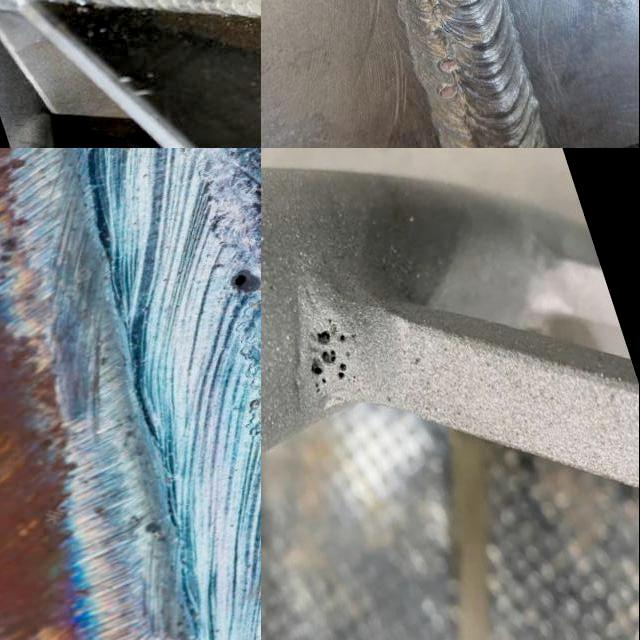defect: (226, 264, 262, 301), (309, 360, 330, 399), (438, 56, 461, 75), (438, 83, 461, 101), (317, 326, 335, 347), (322, 347, 338, 368), (338, 360, 349, 382), (339, 332, 348, 344), (429, 28, 441, 37), (351, 373, 359, 384), (351, 330, 359, 341), (345, 351, 353, 361)
